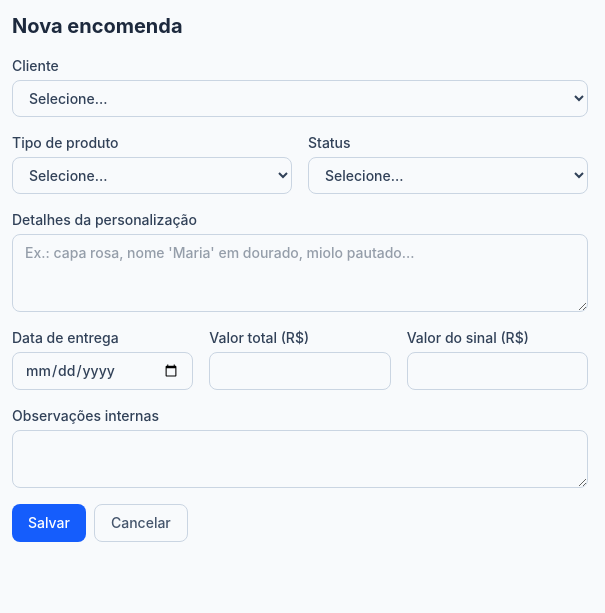
Test case: EncomendaFormPage — criação › exibe o erro retornado pela API
Select "Maria Silva" in the dropdown labelled "Cliente" at (300, 98), box top-left (12, 80), bottom-right (588, 117)
Select "Caderno" in the dropdown labelled "Tipo de produto" at (152, 176), box top-left (12, 157), bottom-right (292, 194)
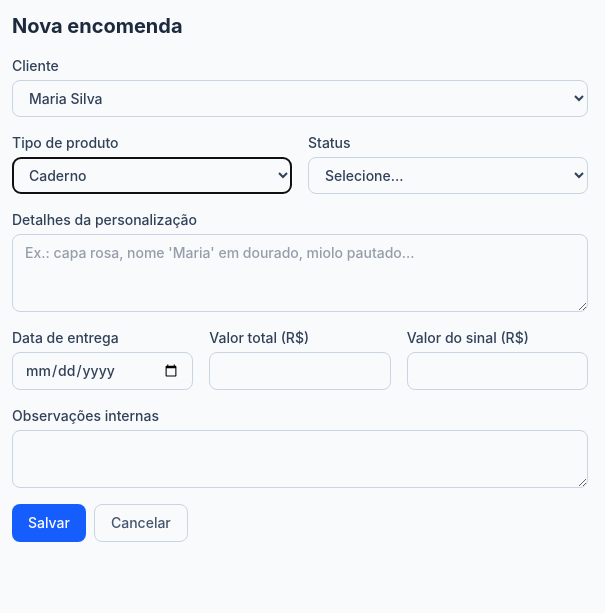
Select "Orçado" in the dropdown labelled "Status" at (448, 176), box top-left (308, 157), bottom-right (588, 194)
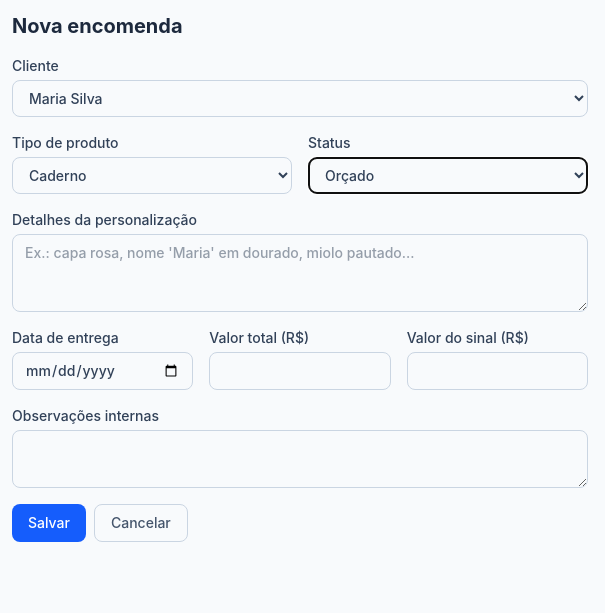
Type "Capa rosa com nome bordado" into the text box labelled "Detalhes da personalização" at (300, 273), box top-left (12, 234), bottom-right (588, 312)
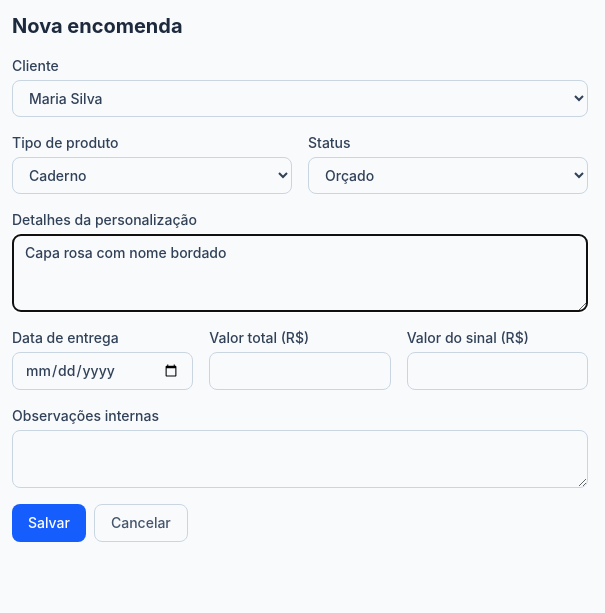
Type "2026-10-01" into the date field labelled "Data de entrega" at (103, 371), box top-left (12, 352), bottom-right (193, 390)
Type "150" into the number field labelled "Valor total (R$)" at (300, 371), box top-left (209, 352), bottom-right (391, 390)
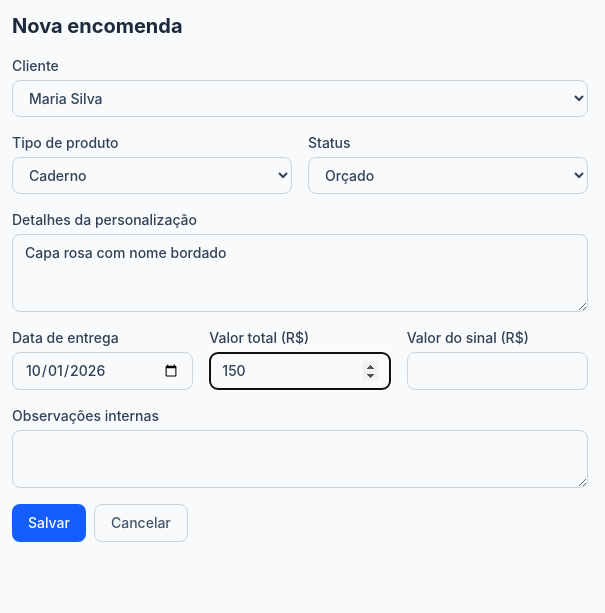
Type "50" into the number field labelled "Valor do sinal (R$)" at (497, 371), box top-left (407, 352), bottom-right (588, 390)
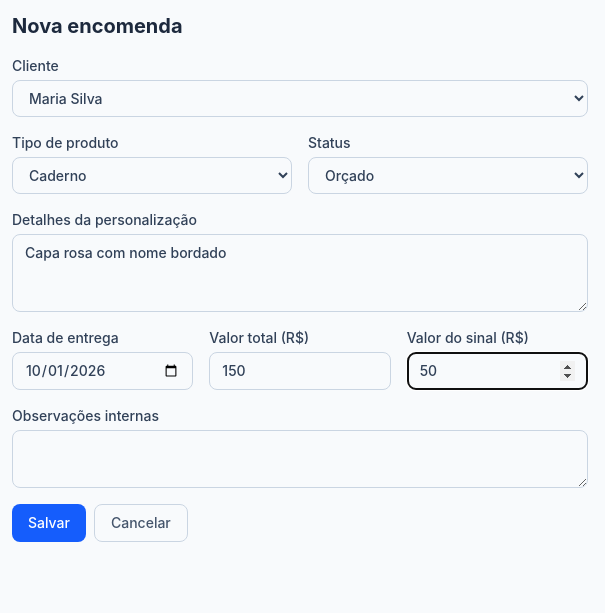
Click the button "Salvar" at (49, 523), box top-left (12, 504), bottom-right (86, 542)
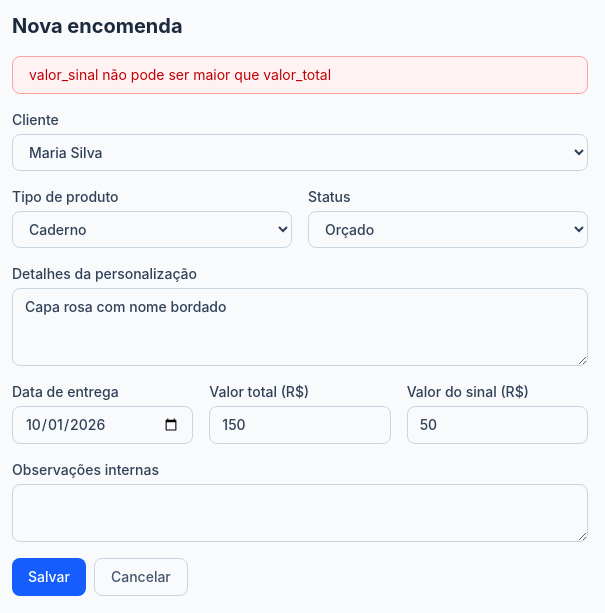
Expected: the message reads "valor_sinal não pode ser maior que valor_total", top-left (29, 66), bottom-right (331, 83)
